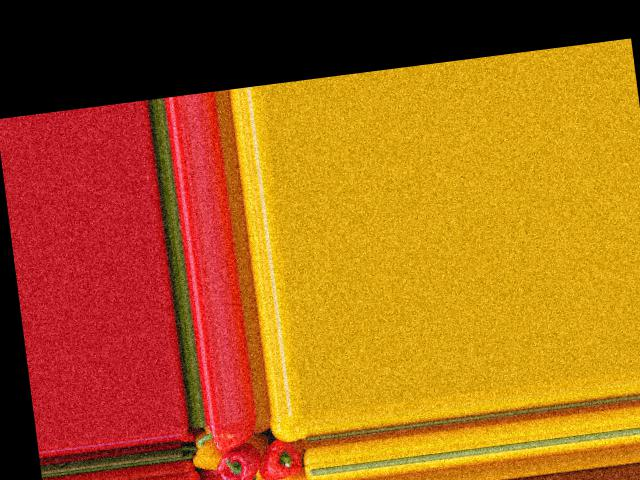bell_pepper: (276, 469, 315, 480)
